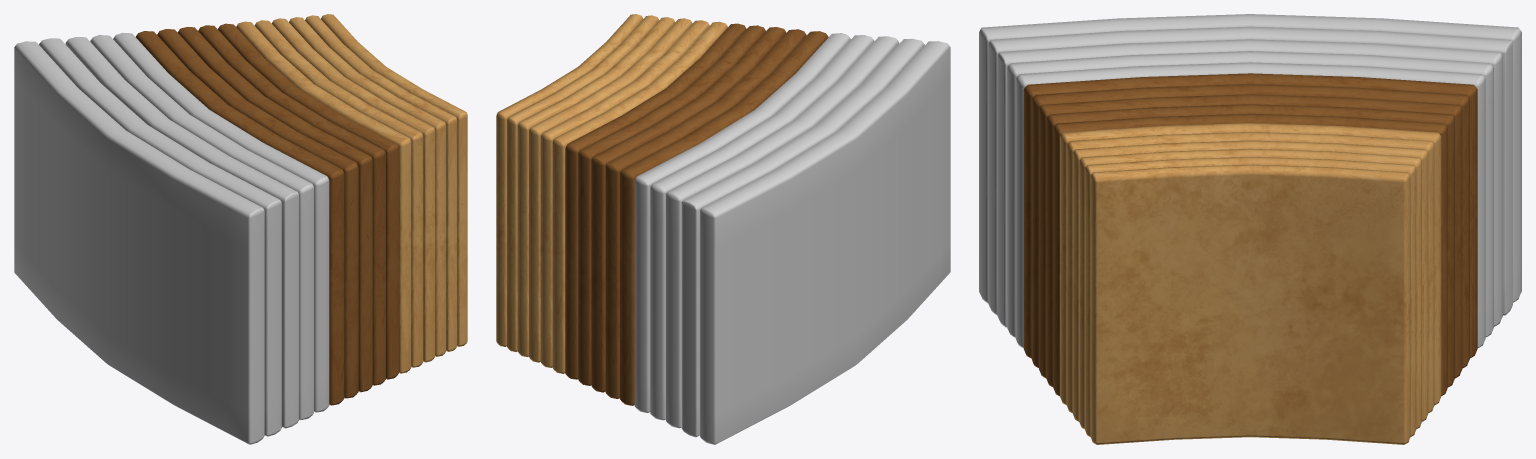
The model's file is baumkuchen-3.fbx.
3 views of the same model, side by side, from view 1: azimuth 30°, elevation 25°; view 2: azimuth 150°, elevation 25°; view 3: azimuth 270°, elevation 25° (orthographic). The views are drawn at different scales.
Parts seen in each view (by area): view 1: polySurface31; view 2: polySurface31; view 3: polySurface31.
Boxes of the visible parts, x1,y1,x2,y2 form: polySurface31: (14, 14, 467, 444); polySurface31: (496, 14, 950, 444); polySurface31: (979, 14, 1521, 444).
Size of the model in its own units: 16.1 by 12.18 by 22.22.
